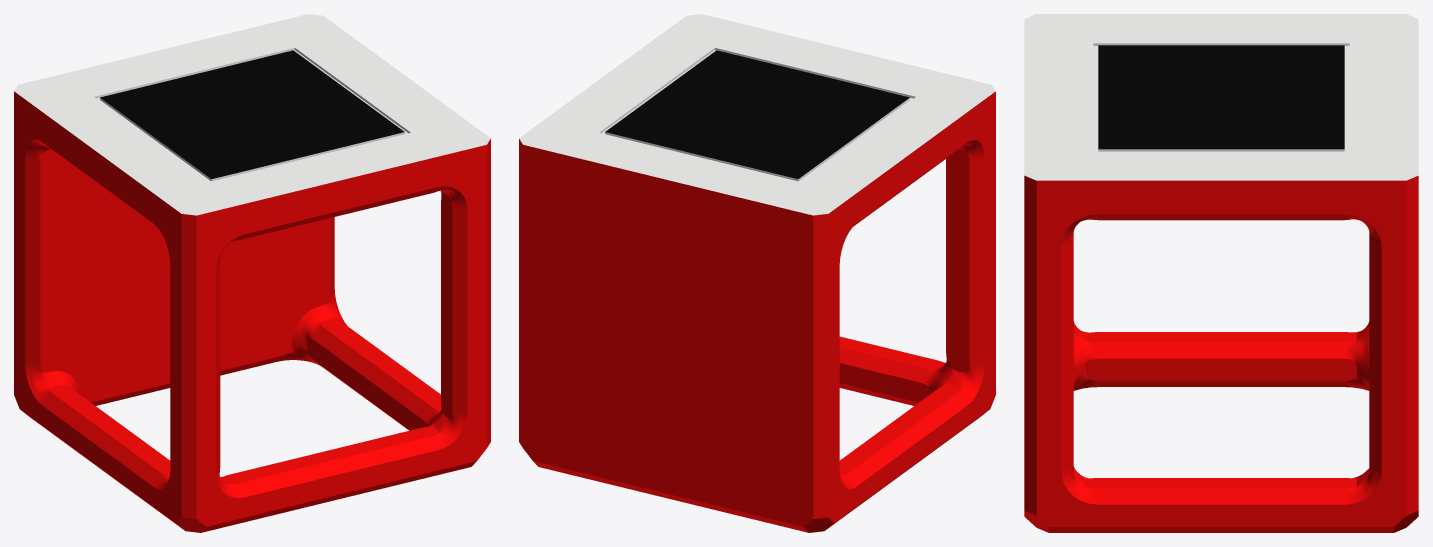
The model's file is large_cube.glb.
3 renders of one model, left to right at view 1: azimuth 30°, elevation 25°; view 2: azimuth 150°, elevation 25°; view 3: azimuth 270°, elevation 25°, orthographic. The views are drawn at different scales.
Parts seen in each view (by area): view 1: g Body1; view 2: g Body1; view 3: g Body1.
Boxes of the visible parts, box(x1,y1,x2,y2) form: g Body1: box(14, 14, 490, 532); g Body1: box(519, 14, 995, 532); g Body1: box(1024, 14, 1418, 532).
Bounding box in the file's own units: 80 × 80 × 80.
